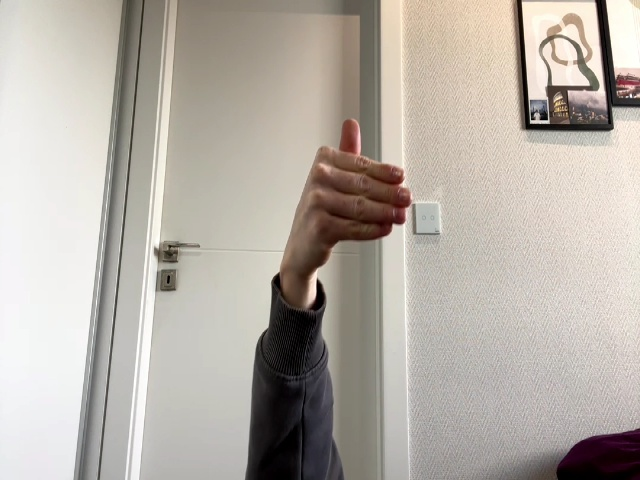M: (300, 119, 412, 265)
